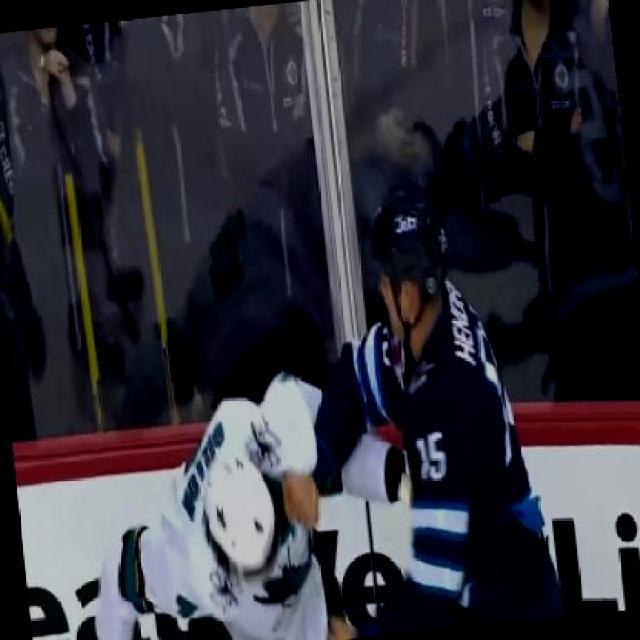fight: (162, 172, 568, 638), (59, 343, 472, 639)
